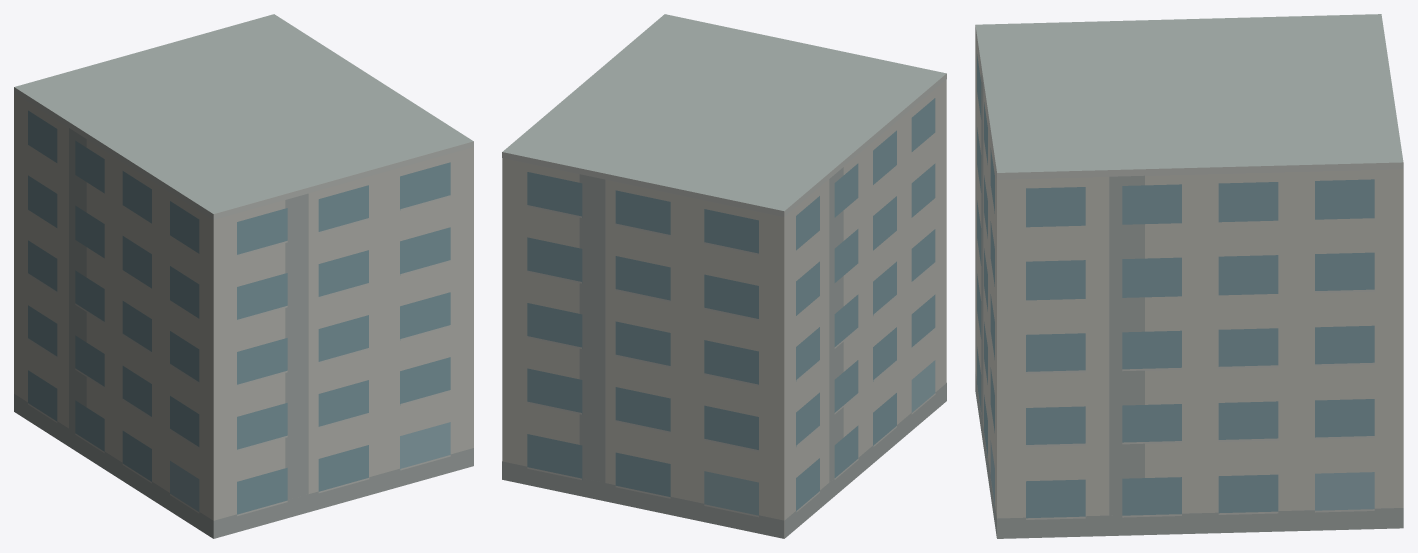
Rendered from survey-upis-32888566.glb.
3 views of the same model, side by side, from view 1: azimuth 30°, elevation 25°; view 2: azimuth 150°, elevation 25°; view 3: azimuth 270°, elevation 25° (orthographic). The views are drawn at different scales.
Parts seen in each view (by area): view 1: survey-upis-32888566.tmp; view 2: survey-upis-32888566.tmp; view 3: survey-upis-32888566.tmp.
Boxes of the visible parts, x1,y1,x2,y2 form: survey-upis-32888566.tmp: (14, 14, 473, 538); survey-upis-32888566.tmp: (502, 14, 946, 538); survey-upis-32888566.tmp: (975, 14, 1403, 538).
Bounding box in the file's own units: 12.54 × 13.45 × 14.27.
